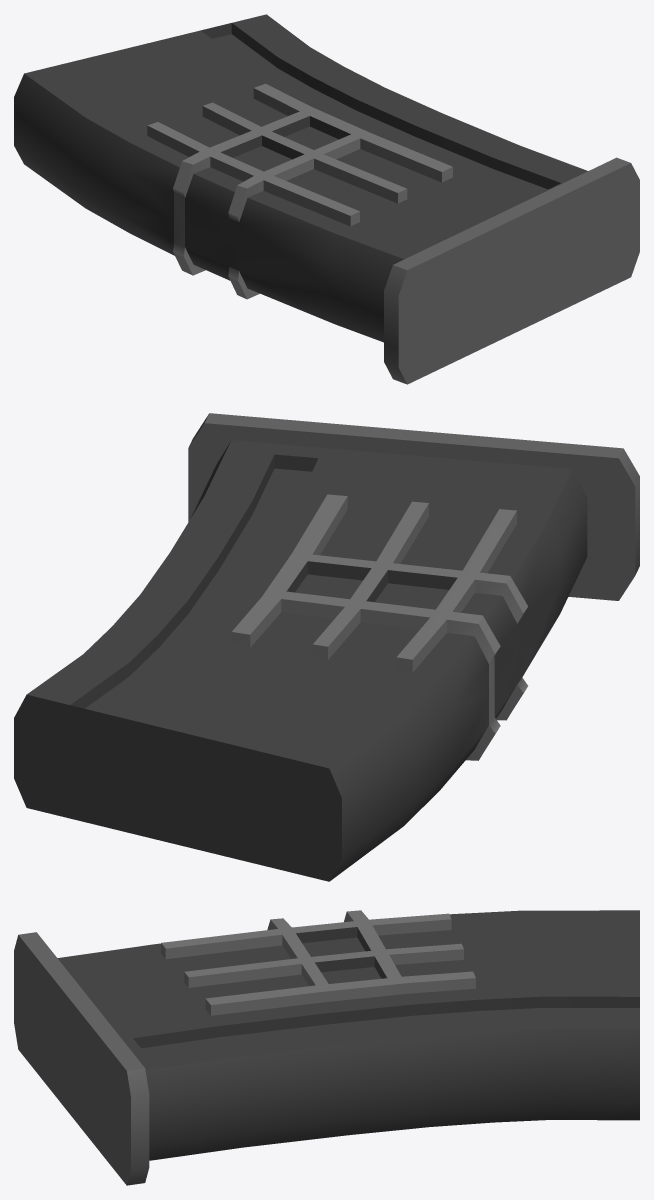
Rendered from Rifle_Magazine.fbx.
The picture shows the model from 3 angles, top to bottom: view 1: azimuth 30°, elevation 25°; view 2: azimuth 150°, elevation 25°; view 3: azimuth 270°, elevation 25°; orthographic projection. The views are drawn at different scales.
Parts seen in each view (by area): view 1: Rifle_Magazine; view 2: Rifle_Magazine; view 3: Rifle_Magazine.
Part boxes in pixels (x1=…): Rifle_Magazine: x1=14, y1=14, x2=639, y2=384; Rifle_Magazine: x1=14, y1=413, x2=639, y2=881; Rifle_Magazine: x1=14, y1=910, x2=639, y2=1185.
Bounding box in the file's own units: 0.5738 × 0.1682 × 0.8312.
